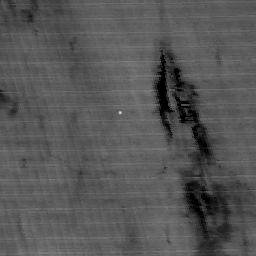Target: (116, 109, 123, 116)
